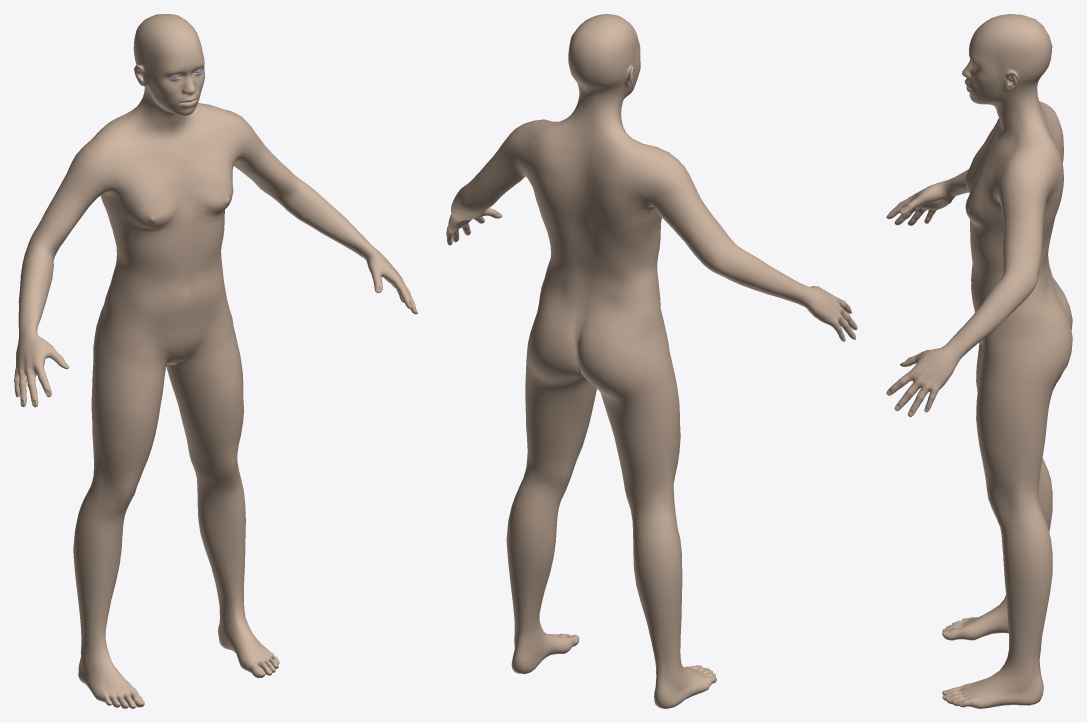
Rendered from guy.gltf.
The picture shows the model from 3 angles, left to right: view 1: azimuth 30°, elevation 25°; view 2: azimuth 150°, elevation 25°; view 3: azimuth 270°, elevation 25°; orthographic projection.
Parts seen in each view (by area): view 1: guy-base; view 2: guy-base; view 3: guy-base.
Boxes of the visible parts, box(x1,y1,x2,y2) form: guy-base: box(14, 14, 417, 708); guy-base: box(446, 14, 857, 708); guy-base: box(886, 14, 1072, 708).
Size of the model in its own units: 1.05 by 1.66 by 0.43.
Materials: 2 (1 with a texture image).
